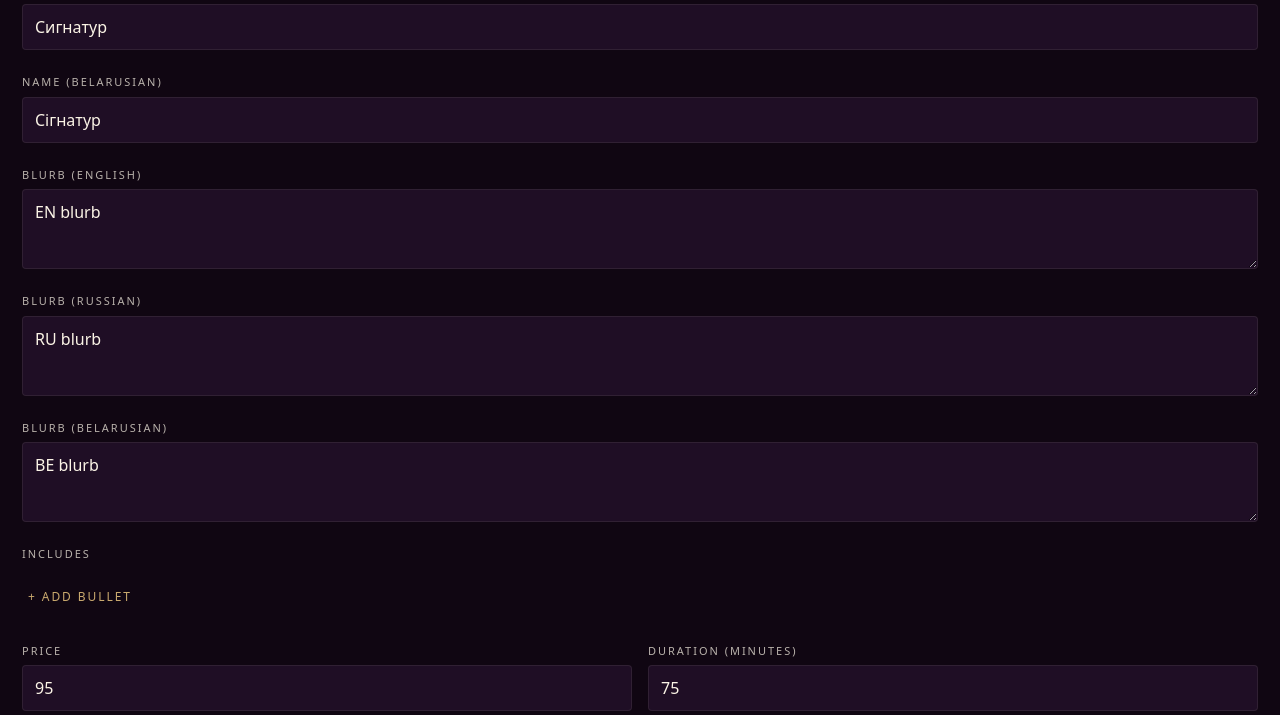
Test case: ServiceEditor › rejects an empty RU blurb with an inline error
This screenshot has width=1280, height=715.
(page scrolled)
Clear the text box labelled "Blurb (Russian)": (640, 356) [22, 316, 1258, 396]
(page scrolled)
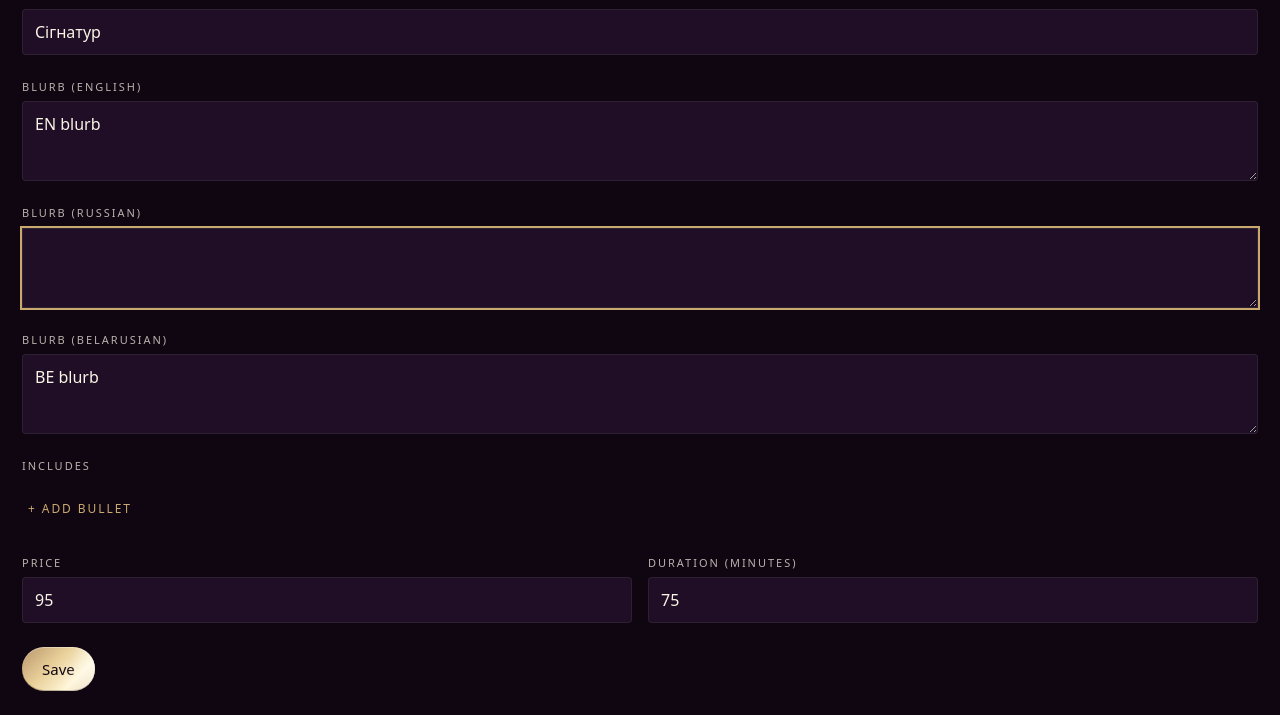
Click the button "Save": (58, 669) [22, 647, 95, 691]
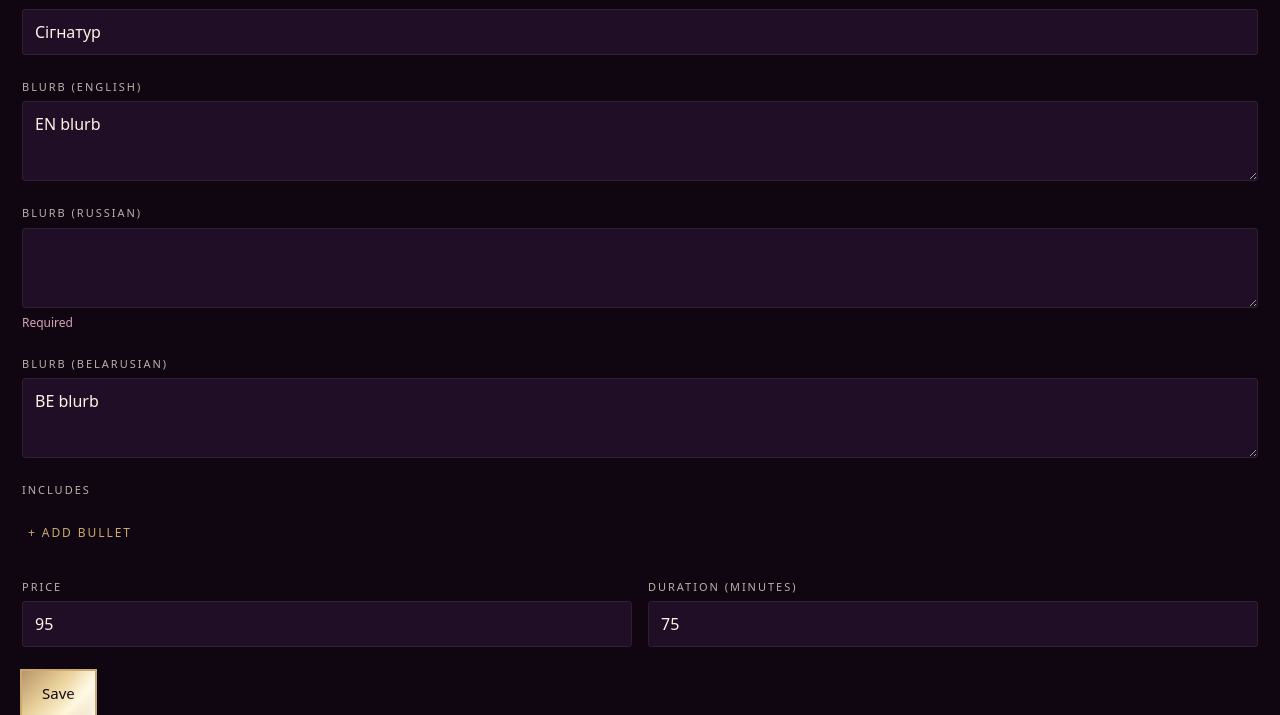
expect the text "Required" is shown: met, box [22, 314, 73, 330]
